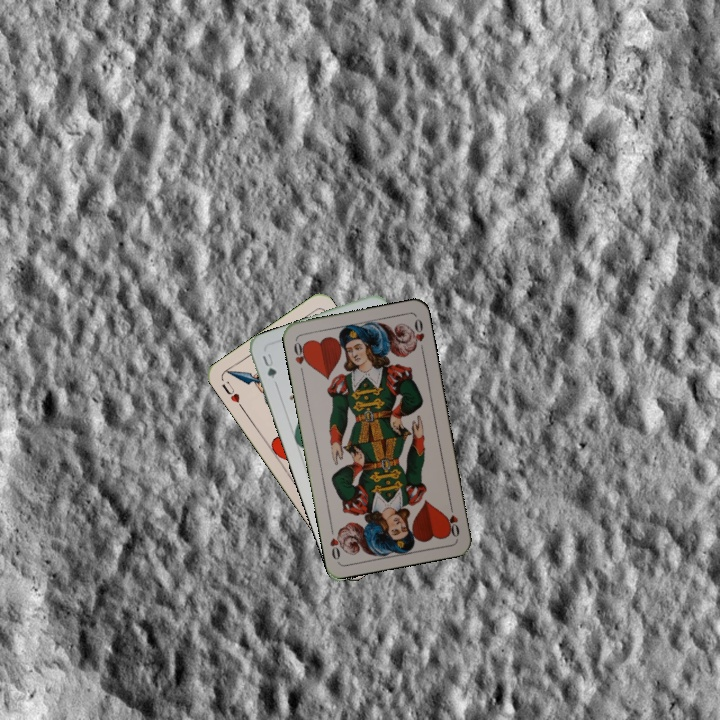GU: (258, 349, 279, 381)
HO: (290, 337, 311, 377), (443, 499, 462, 540)
HU: (218, 377, 246, 411)
